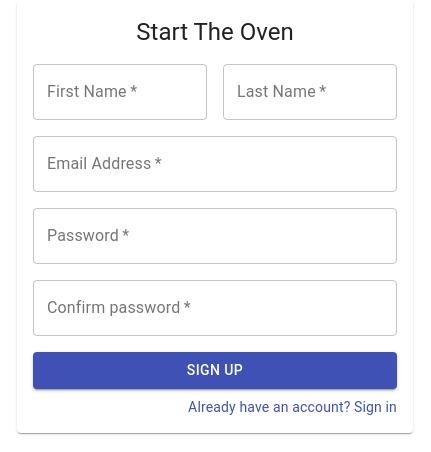
Test: RegisterForm › First name input field stores input in hook
In the field with test id "firstName": [120, 92] box [33,64,207,120], type "Te"
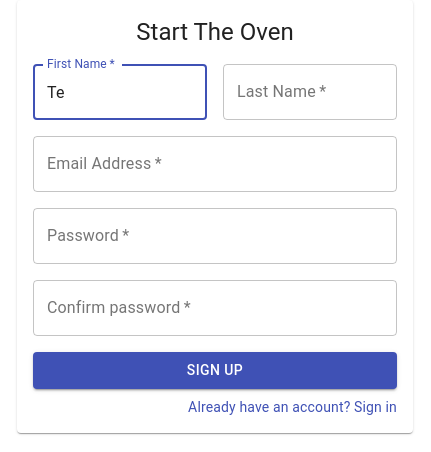
In the field with test id "firstName": [120, 92] box [33,64,207,120], type "st"
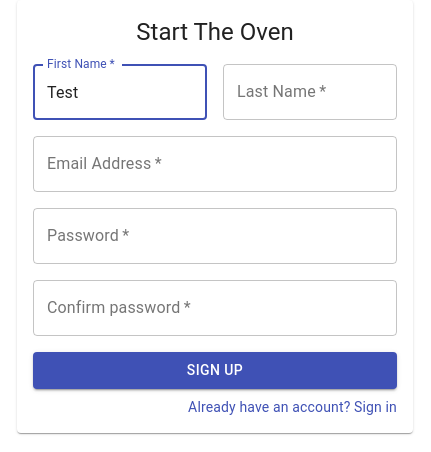
Result: the field with test id "firstName" holds "Test" at [33,64,207,120]
